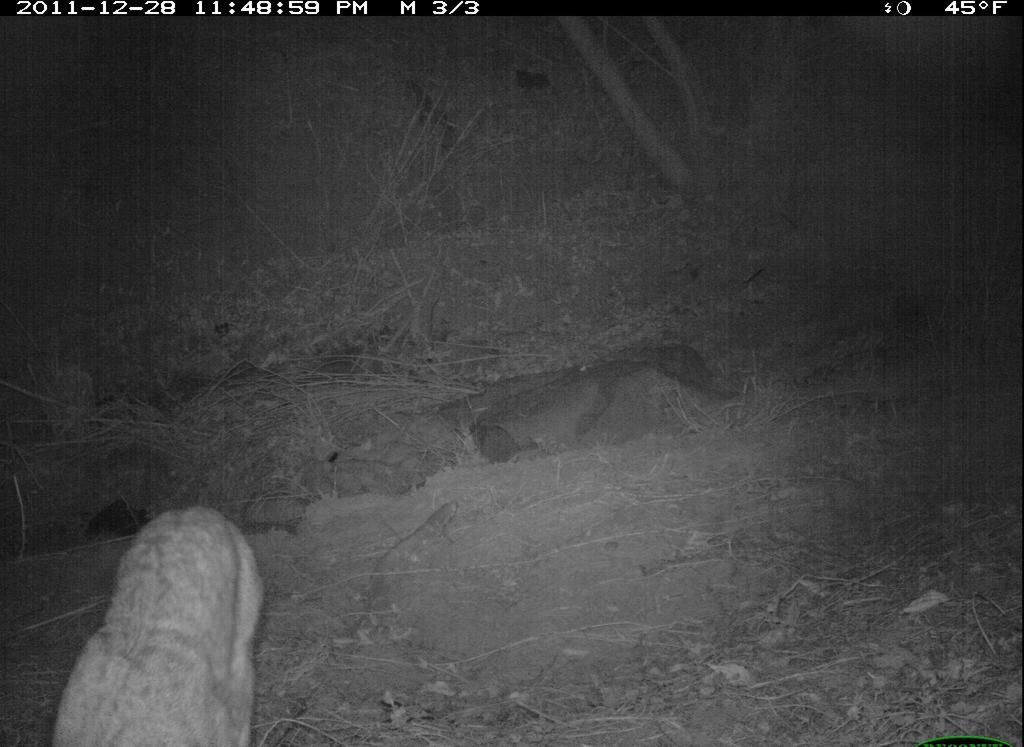bobcat: (49, 501, 277, 747)
